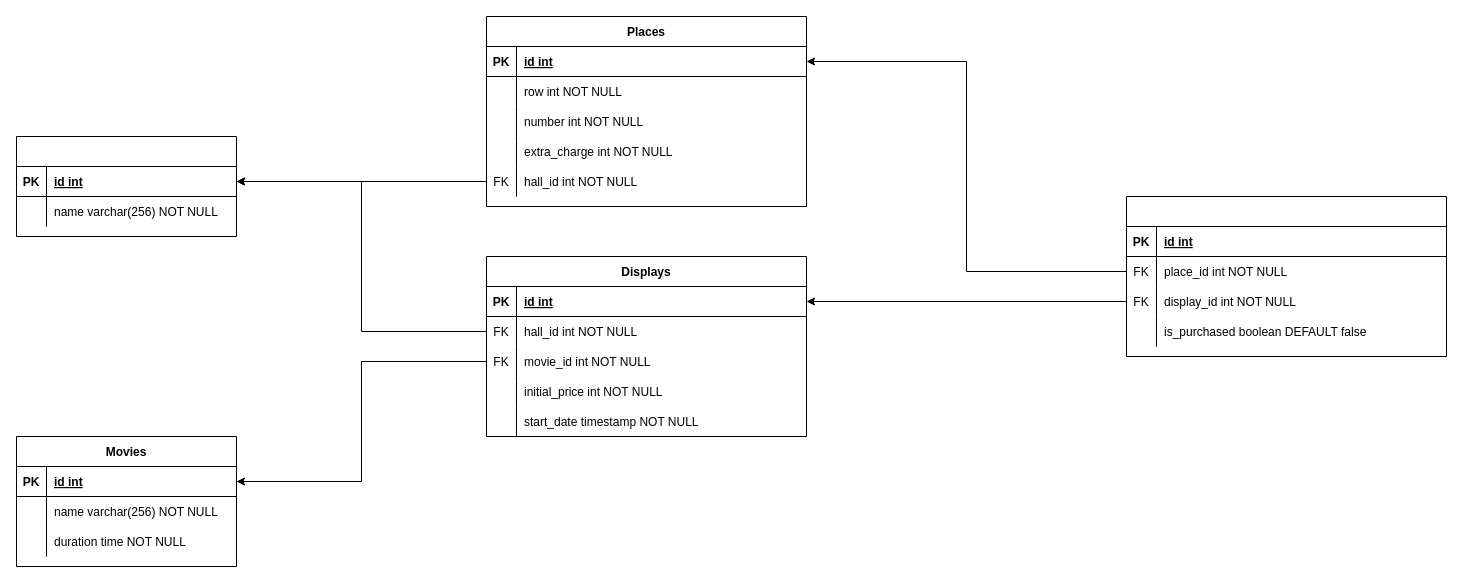
Image size: 1463x583. Some labels were removed from this diagram. The box of each missing label's shape, as (x1, y1, x2, y2) in pixels:
Halls: (16, 136, 236, 236)
Tickets: (1126, 196, 1446, 356)
